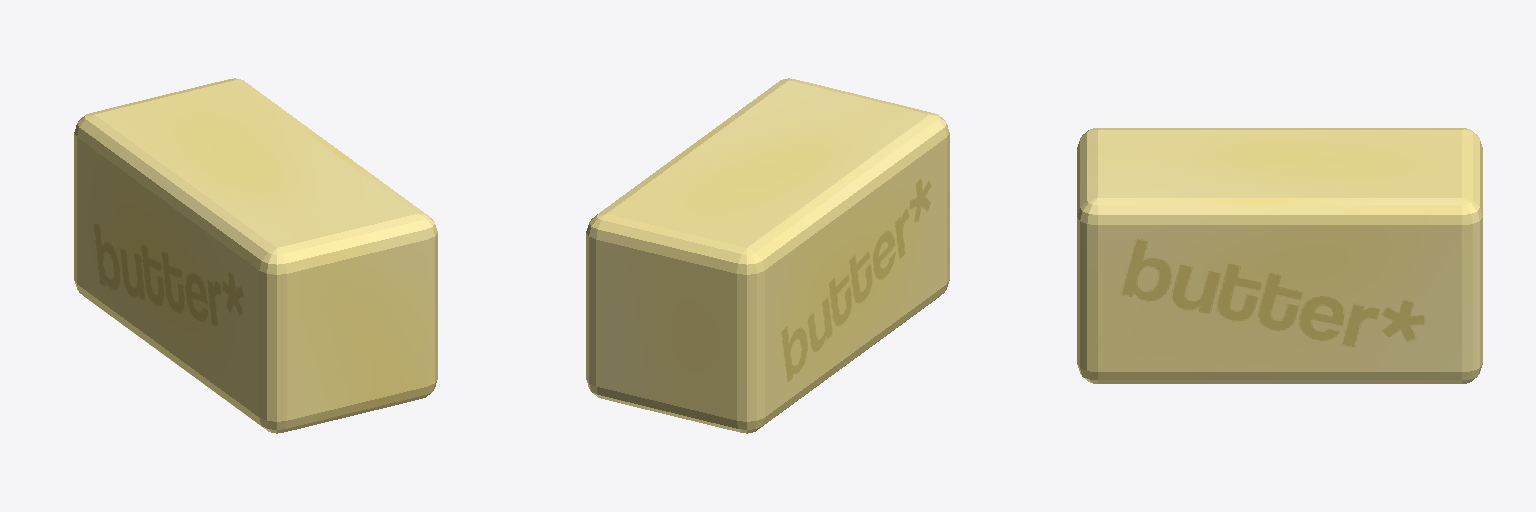
3 views of the same model, side by side, from view 1: azimuth 30°, elevation 25°; view 2: azimuth 150°, elevation 25°; view 3: azimuth 270°, elevation 25° (orthographic).
Visible parts, largest first — view 1: ChamferBox001; view 2: ChamferBox001; view 3: ChamferBox001.
Part boxes in pixels (x1,y1,x2,y2): ChamferBox001: (74, 78, 437, 433); ChamferBox001: (586, 78, 949, 433); ChamferBox001: (1077, 128, 1482, 383).
Bounding box in the file's own units: 20 × 20 × 40.
Materials: 1 (1 with a texture image).